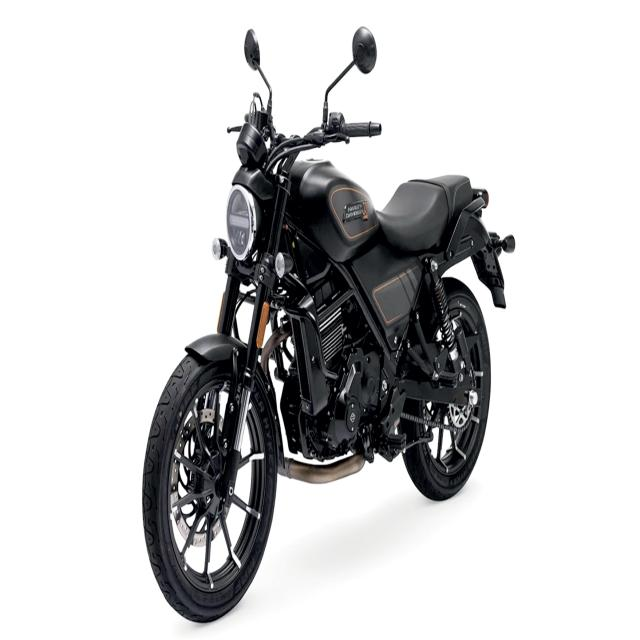Bike: (138, 62, 510, 626)
